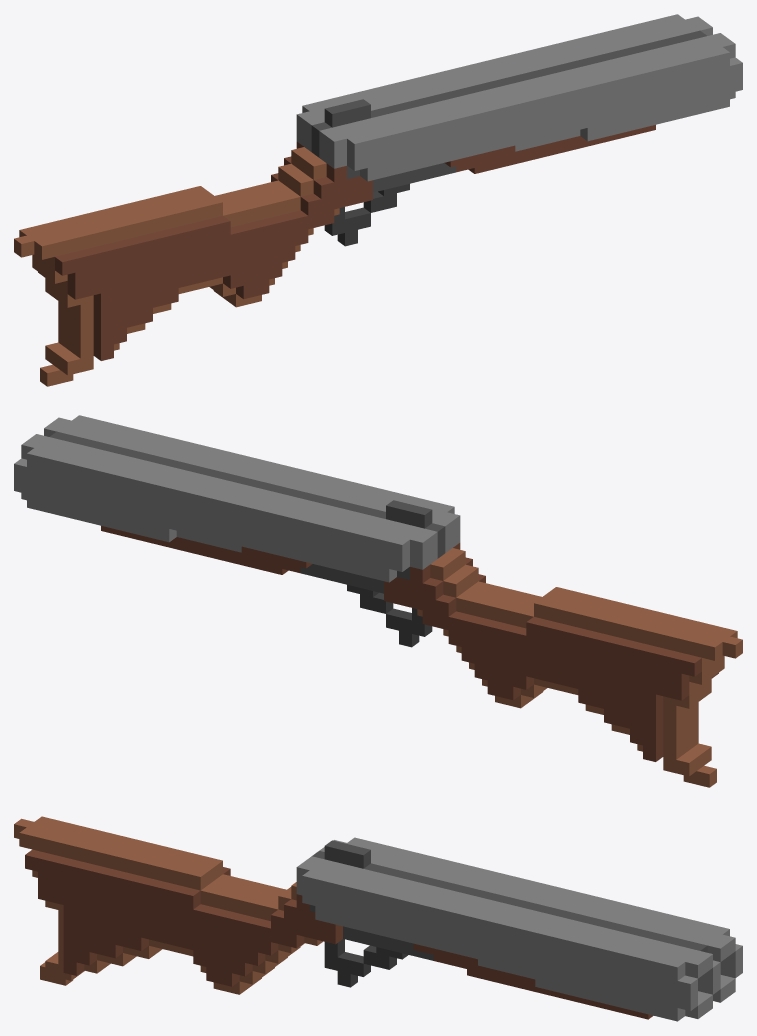
Rendered from SuperShotgun.obj.
3 renders of one model, top to bottom at view 1: azimuth 30°, elevation 25°; view 2: azimuth 150°, elevation 25°; view 3: azimuth 330°, elevation 25°, orthographic.
Bounding box in the file's own units: 5.4 × 1.5 × 0.7.
1 material, 1 textured.
